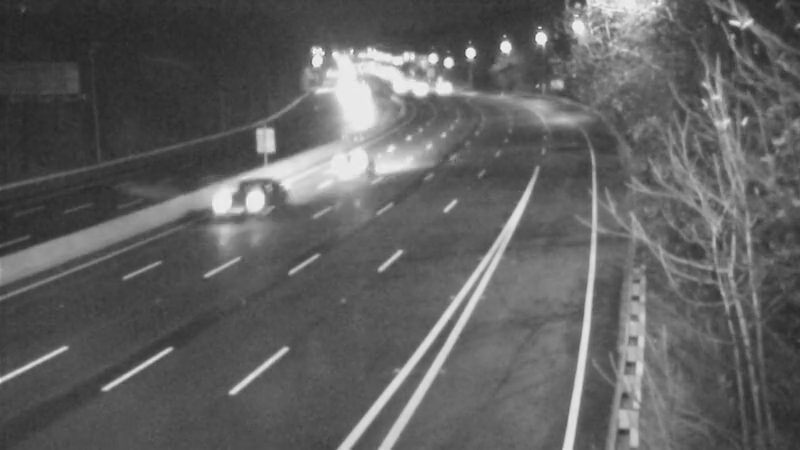vehicle: (316, 123, 396, 203), (194, 169, 274, 249), (389, 62, 439, 112), (414, 60, 464, 110)
